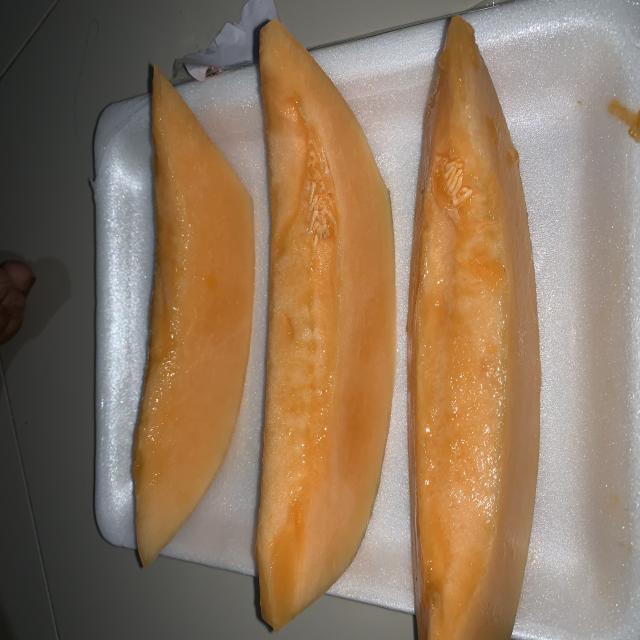melon: (6, 339, 464, 529), (56, 170, 424, 336), (0, 532, 472, 640)
